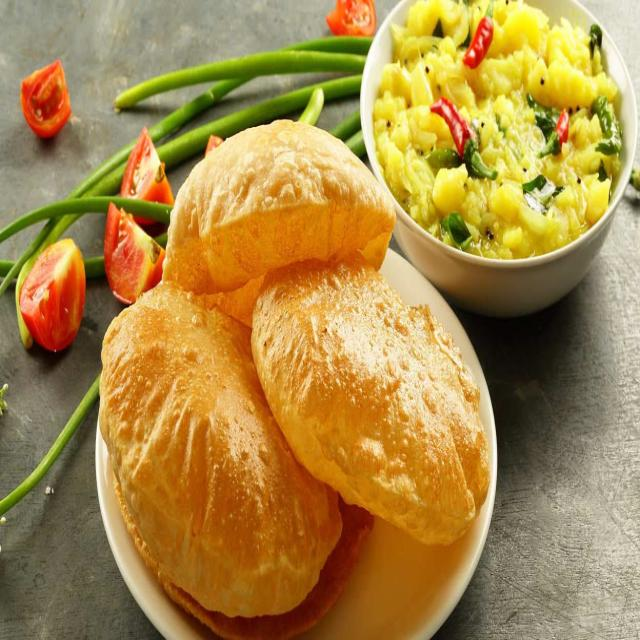poori: (98, 288, 348, 620), (251, 256, 495, 549), (161, 102, 399, 292)
